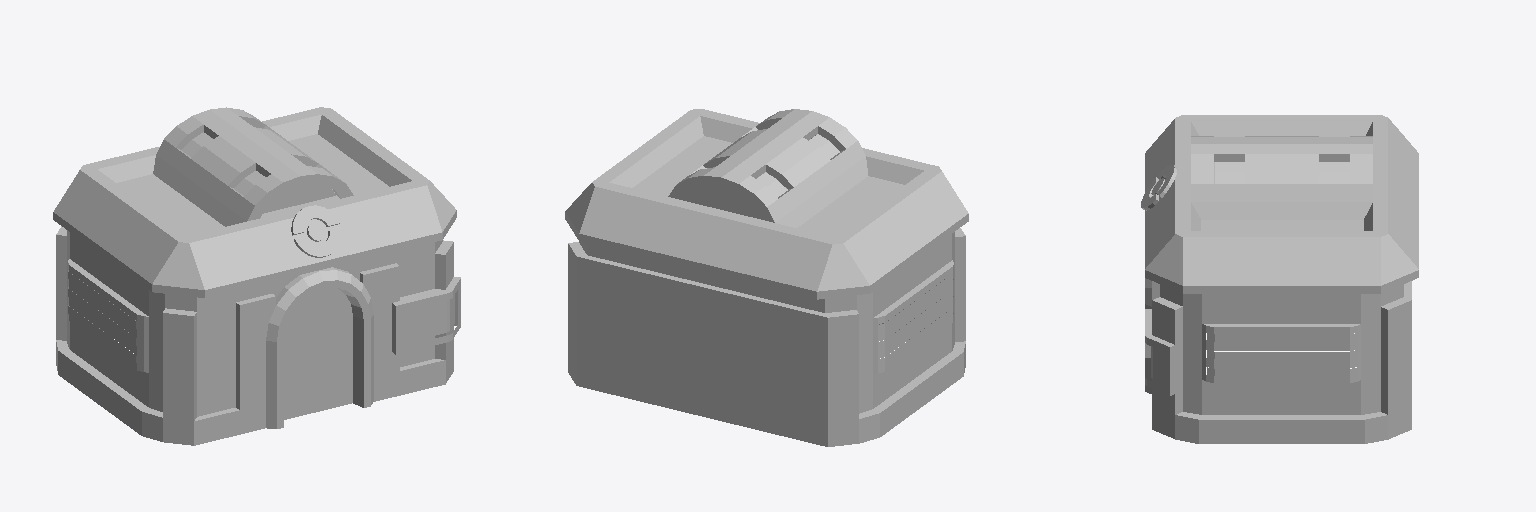
Rendered from mart.obj.
The picture shows the model from 3 angles: view 1: azimuth 30°, elevation 25°; view 2: azimuth 150°, elevation 25°; view 3: azimuth 270°, elevation 25°; orthographic projection.
Parts seen in each view (by area): view 1: pokecenter_1, pokecenter_1_door_pokecenter_1.001, pokecenter_2, pokecenter_3; view 2: pokecenter_1, pokecenter_2; view 3: pokecenter_1, pokecenter_2, pokecenter_3.
Part boxes in pixels (bbox=[...]): pokecenter_1: bbox=[53, 107, 460, 445]; pokecenter_1_door_pokecenter_1.001: bbox=[284, 288, 352, 419]; pokecenter_2: bbox=[68, 132, 335, 364]; pokecenter_3: bbox=[291, 205, 454, 342]; pokecenter_1: bbox=[565, 109, 968, 446]; pokecenter_2: bbox=[757, 133, 953, 366]; pokecenter_1: bbox=[1145, 115, 1418, 443]; pokecenter_2: bbox=[1207, 162, 1357, 375]; pokecenter_3: bbox=[1141, 164, 1177, 382].
Bounding box in the file's own units: 7.3 × 5.06 × 5.68.